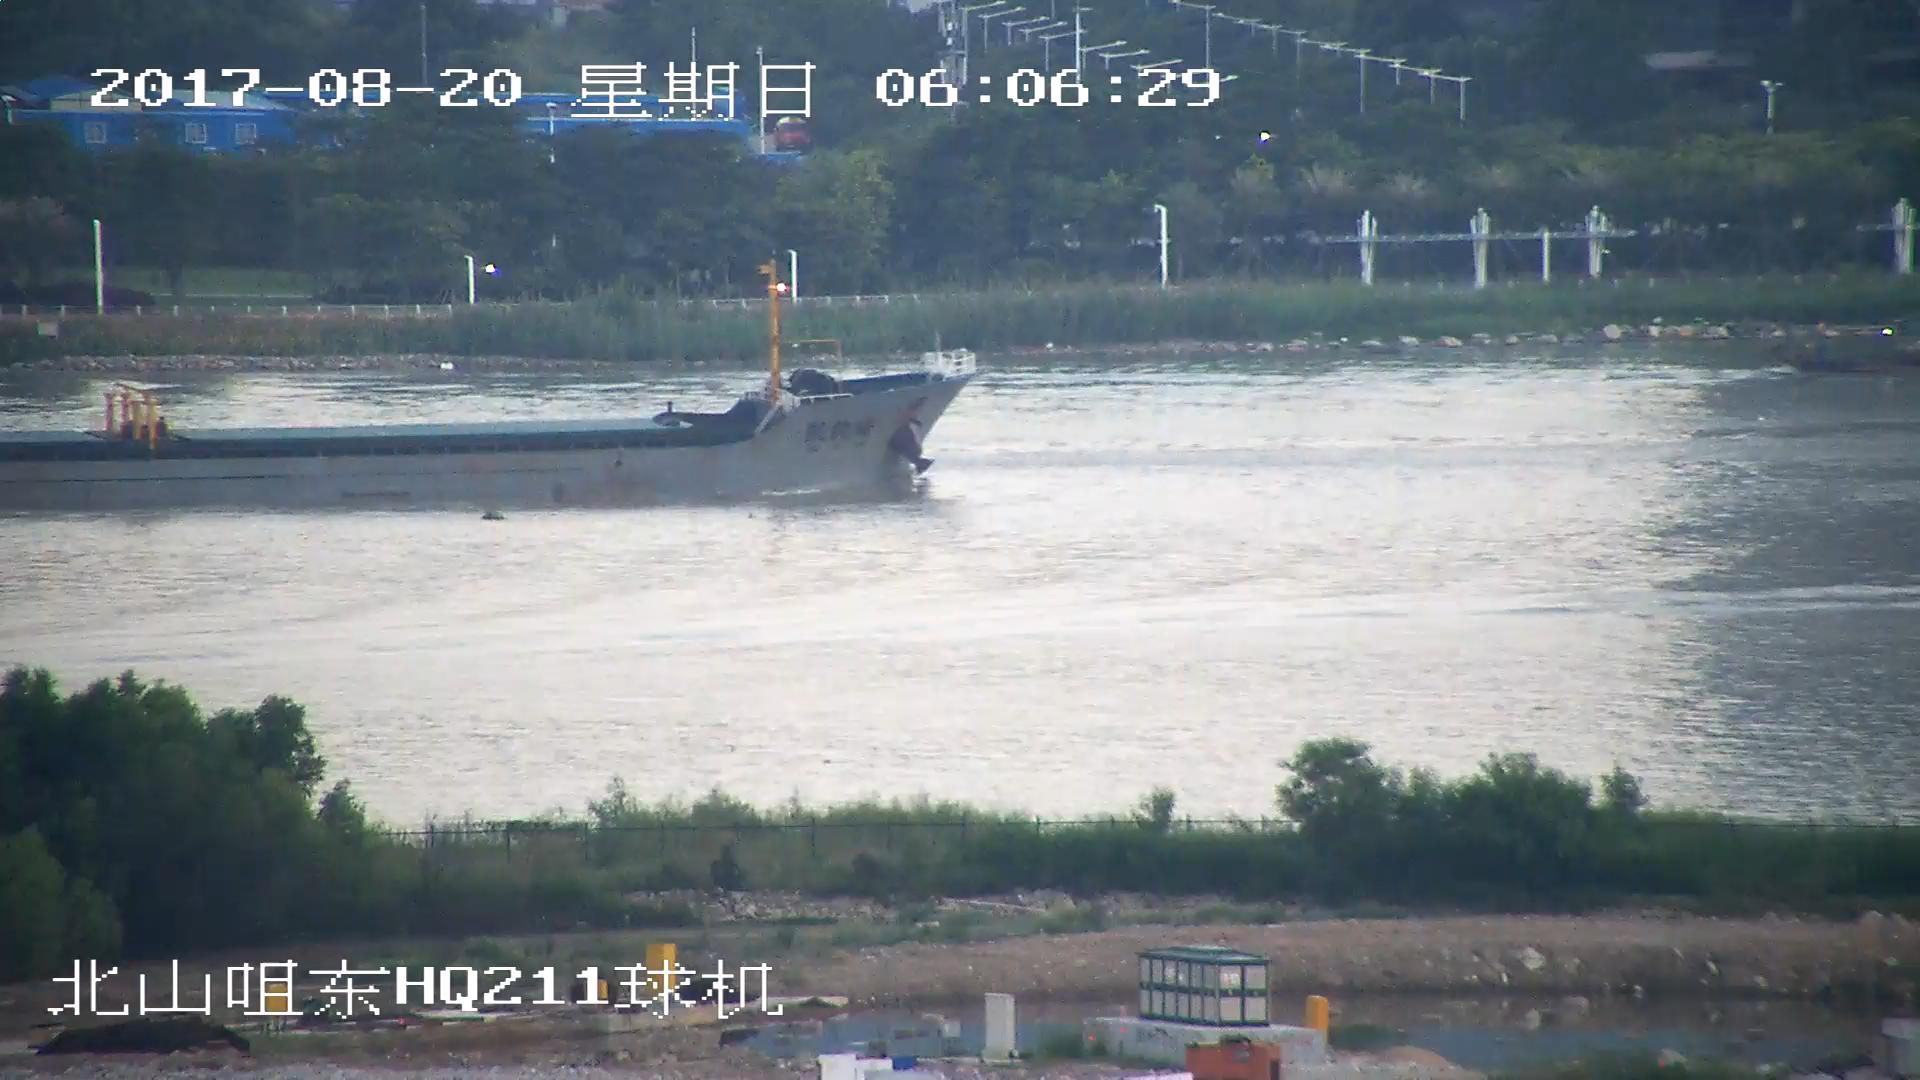Ship: (3, 269, 980, 505)
